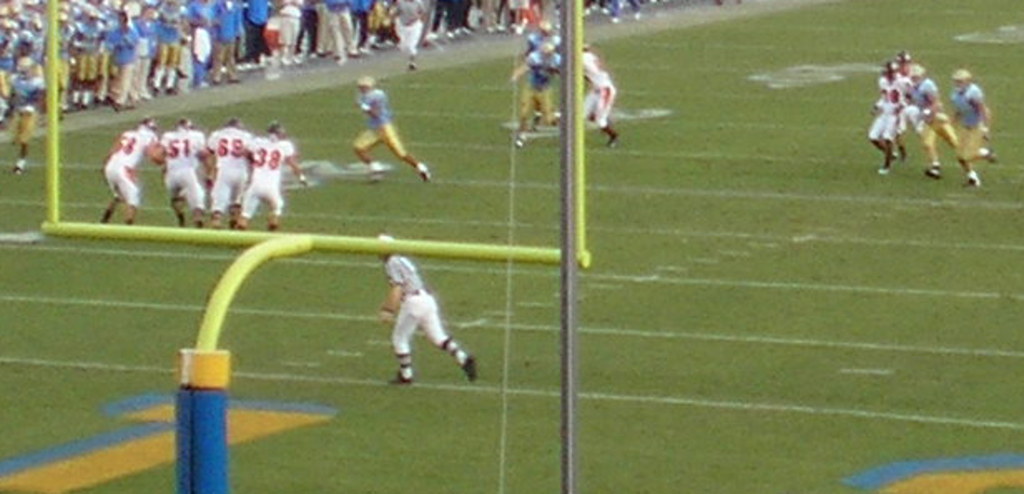Person: (867, 59, 904, 173)
